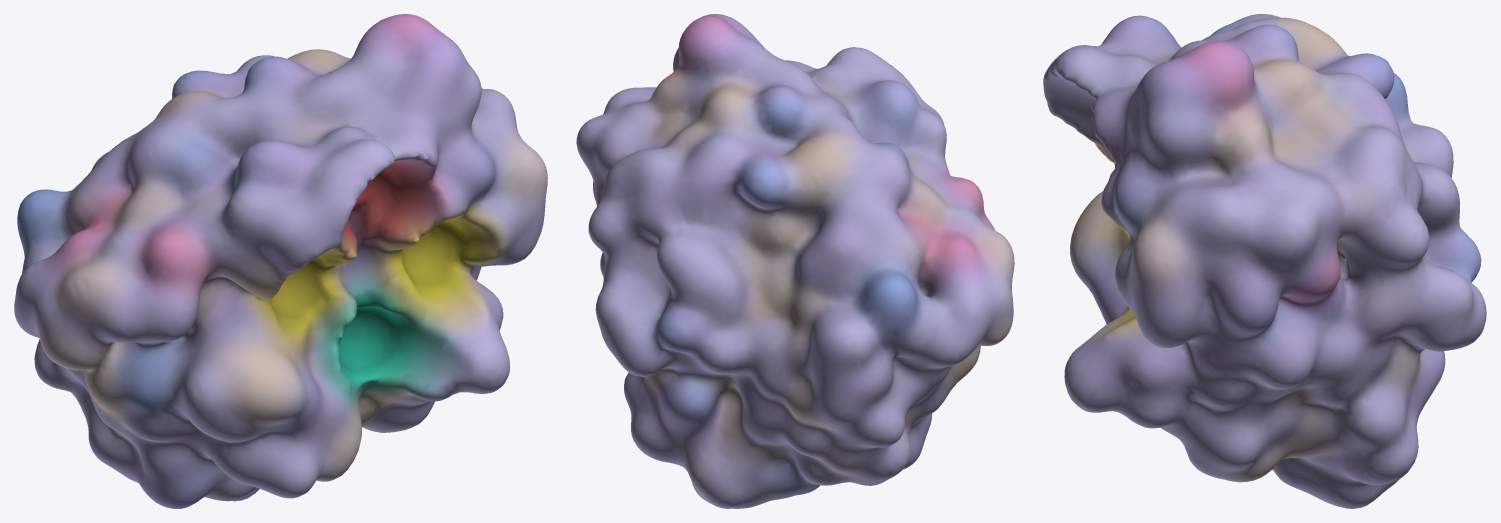
The model's file is tripsina_exp.glb.
3 views of the same model, side by side, from view 1: azimuth 30°, elevation 25°; view 2: azimuth 150°, elevation 25°; view 3: azimuth 270°, elevation 25° (orthographic). The views are drawn at different scales.
Parts seen in each view (by area): view 1: geometry_0; view 2: geometry_0; view 3: geometry_0.
Boxes of the visible parts, box(x1,y1,x2,y2) form: geometry_0: box(14, 14, 547, 508); geometry_0: box(576, 14, 1014, 508); geometry_0: box(1043, 14, 1486, 508).
Bounding box in the file's own units: 0.4545 × 0.4497 × 0.3574.
